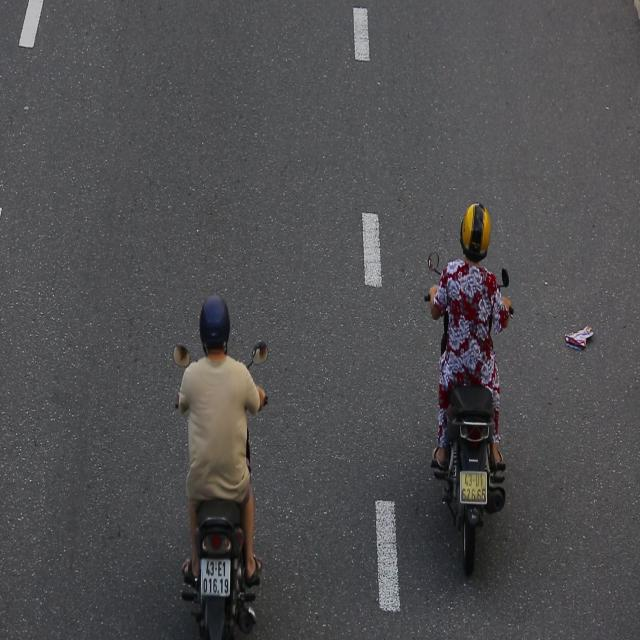motorbike: (398, 182, 520, 596), (153, 275, 267, 640)
